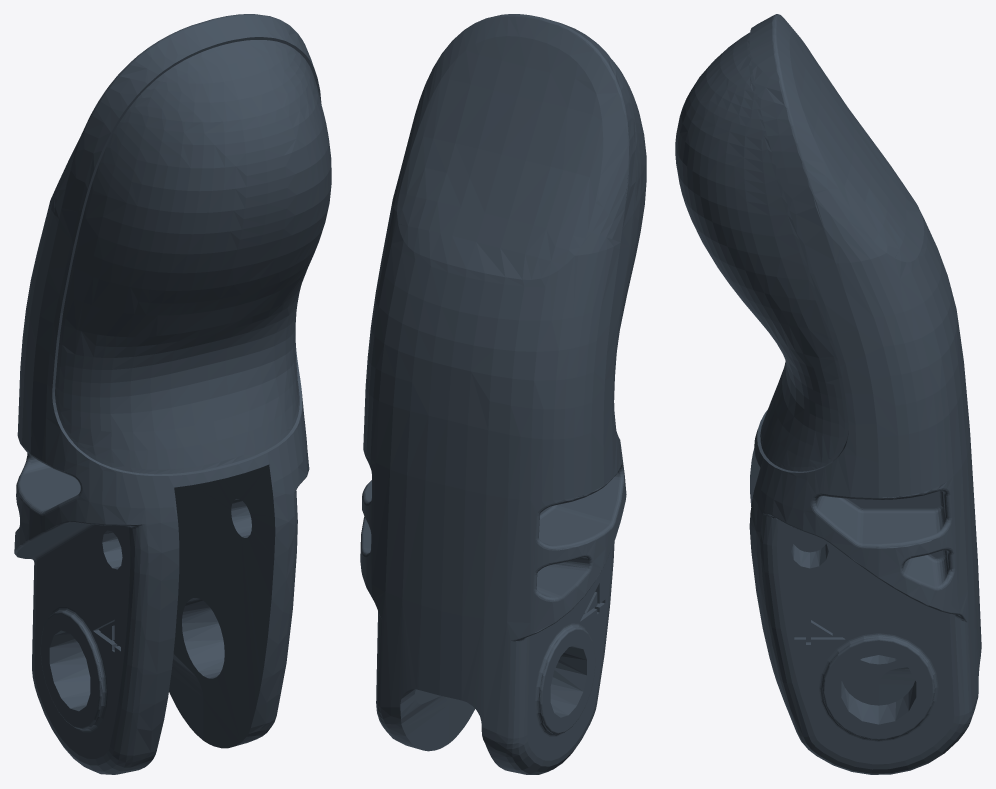
File: lf_dip_link.glb
The picture shows the model from 3 angles, left to right: view 1: azimuth 30°, elevation 25°; view 2: azimuth 150°, elevation 25°; view 3: azimuth 270°, elevation 25°; orthographic projection. The views are drawn at different scales.
Parts seen in each view (by area): view 1: lf_dip; view 2: lf_dip; view 3: lf_dip.
Part boxes in pixels (x1=…): lf_dip: x1=14, y1=14, x2=331, y2=774; lf_dip: x1=360, y1=14, x2=646, y2=774; lf_dip: x1=675, y1=14, x2=981, y2=774.
Bounding box in the file's own units: 0.0147 × 0.0422 × 0.0163.
